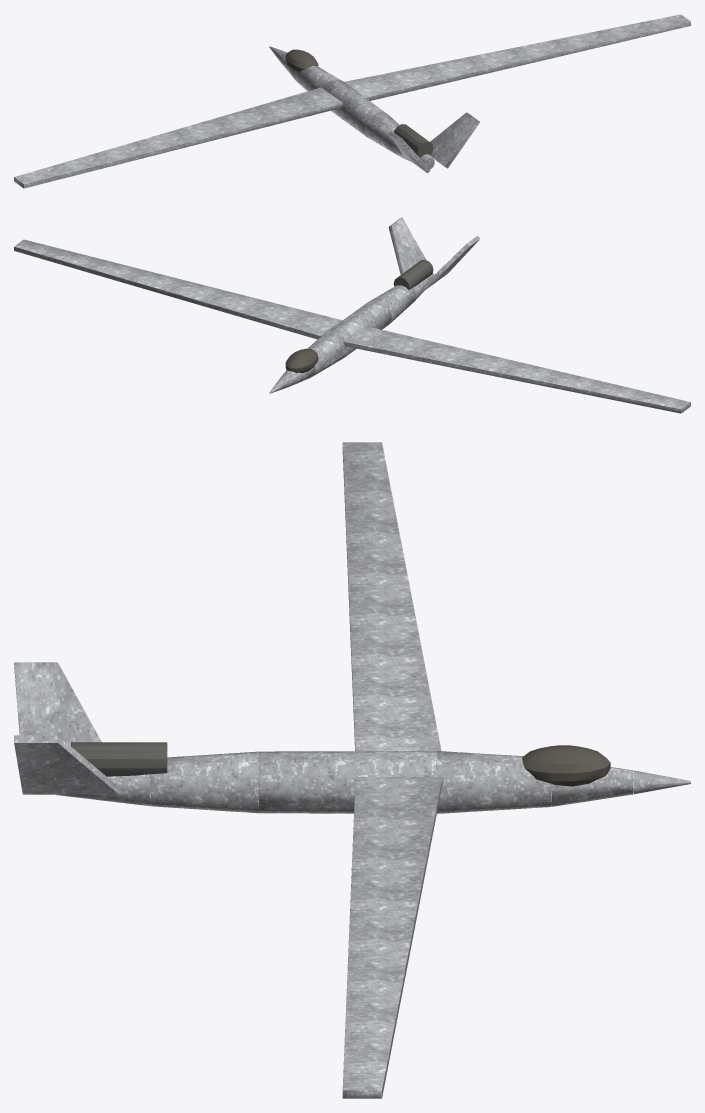
Rendered from uav_e5_us_recon_LOD1.glb.
The picture shows the model from 3 angles, top to bottom: view 1: azimuth 30°, elevation 25°; view 2: azimuth 150°, elevation 25°; view 3: azimuth 270°, elevation 25°; orthographic projection. The views are drawn at different scales.
Parts seen in each view (by area): view 1: uav_e5_us_recon_LOD1_body, uav_e5_us_recon_LOD1_gun, uav_e5_us_recon_LOD1_deck; view 2: uav_e5_us_recon_LOD1_body, uav_e5_us_recon_LOD1_gun, uav_e5_us_recon_LOD1_deck; view 3: uav_e5_us_recon_LOD1_body, uav_e5_us_recon_LOD1_deck, uav_e5_us_recon_LOD1_gun.
Boxes of the visible parts, x1,y1,x2,y2 form: uav_e5_us_recon_LOD1_body: (14, 14, 690, 188); uav_e5_us_recon_LOD1_gun: (394, 124, 433, 157); uav_e5_us_recon_LOD1_deck: (285, 49, 318, 71); uav_e5_us_recon_LOD1_body: (14, 217, 690, 413); uav_e5_us_recon_LOD1_gun: (393, 259, 433, 289); uav_e5_us_recon_LOD1_deck: (285, 348, 318, 372); uav_e5_us_recon_LOD1_body: (14, 442, 690, 1098); uav_e5_us_recon_LOD1_deck: (522, 745, 610, 786); uav_e5_us_recon_LOD1_gun: (71, 742, 167, 778).
Size of the model in its own units: 35 by 2.83 by 15.45.
3 materials, 1 textured.
